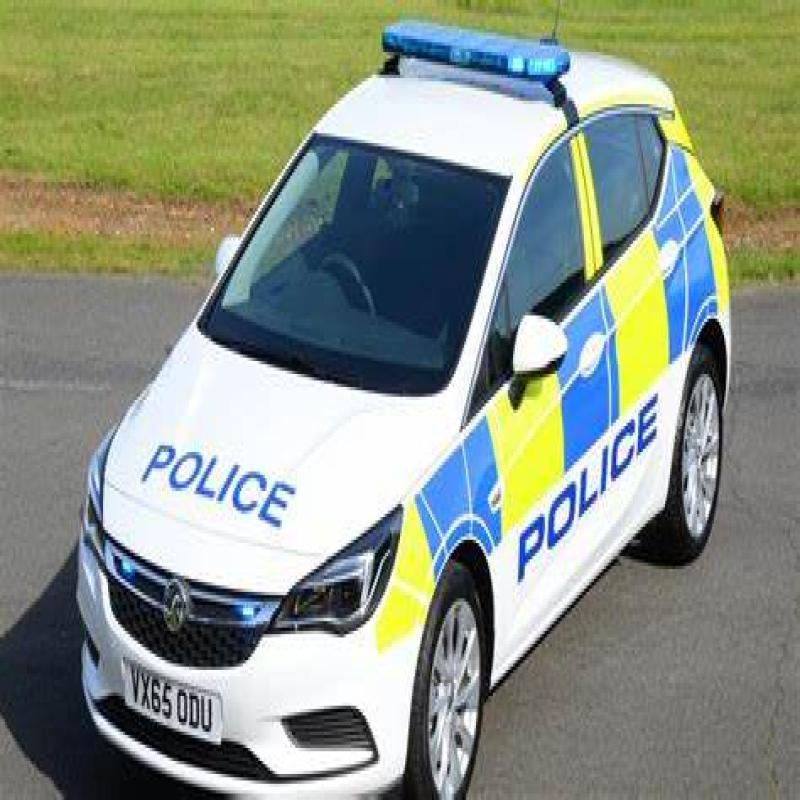AmbulanceSiren: (381, 7, 575, 119)
